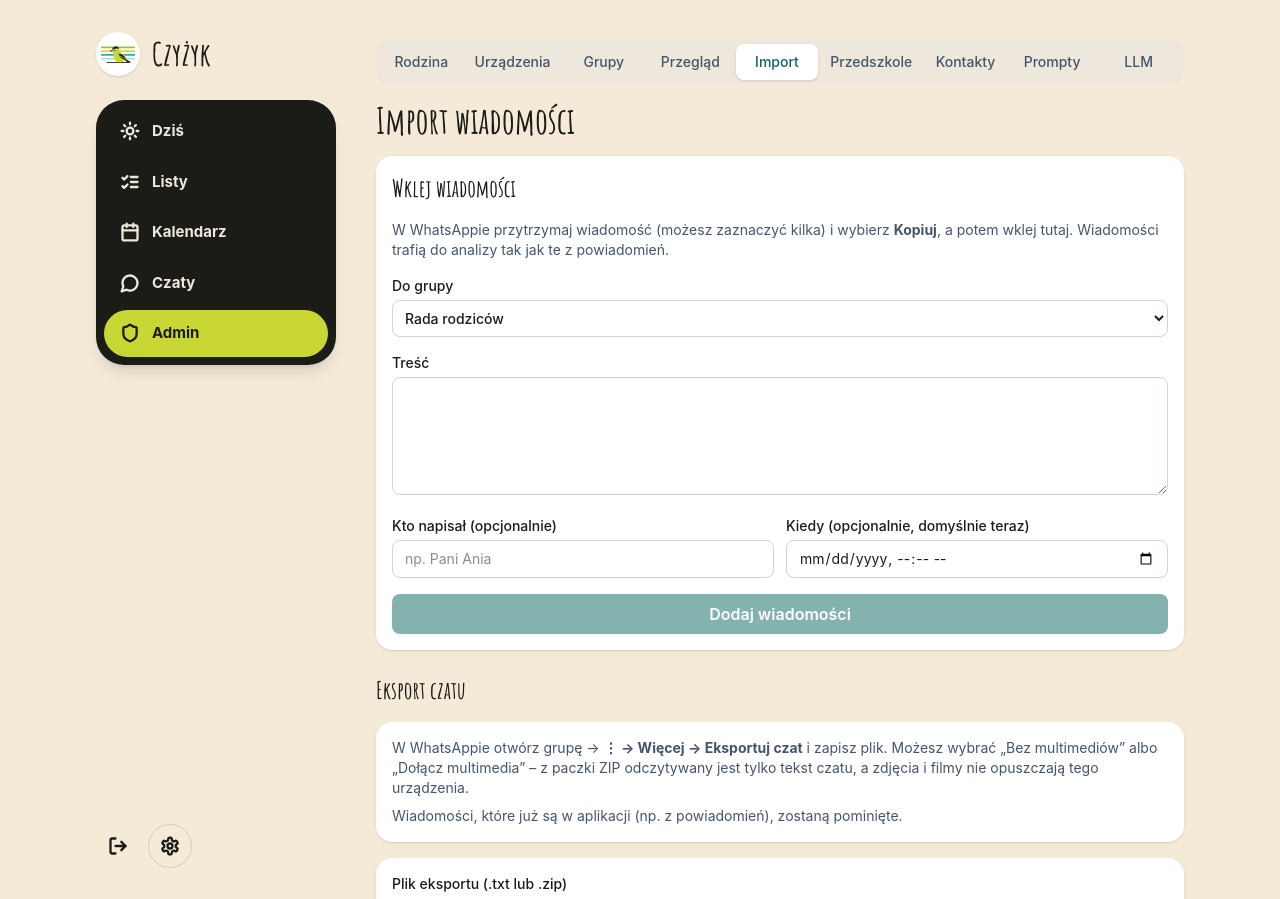
Test: Admin → Import → Wklej wiadomości › pojedyncza wiadomość z autorem i godziną; grupa z adresu
Type "Jutro zbiórka o 8:00" into the text box labelled "Treść" at (780, 436), box [392,377,1168,495]
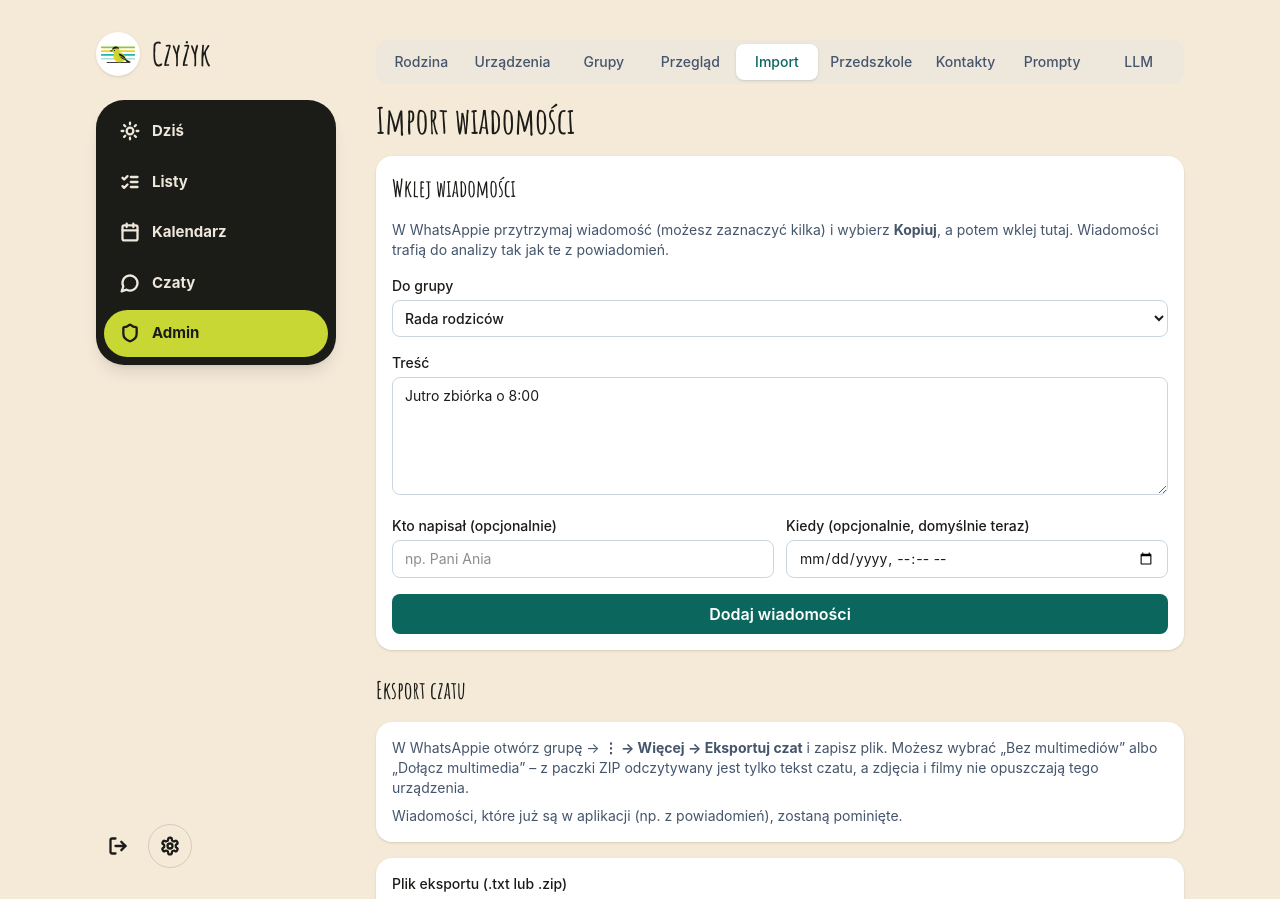
Expected: the dropdown labelled "Do grupy" shows "Rada rodziców", [392,300,1168,337]
Type " Pani Ania " into the field labelled "Kto napisał (opcjonalnie)" at (583, 559), box [392,540,774,578]
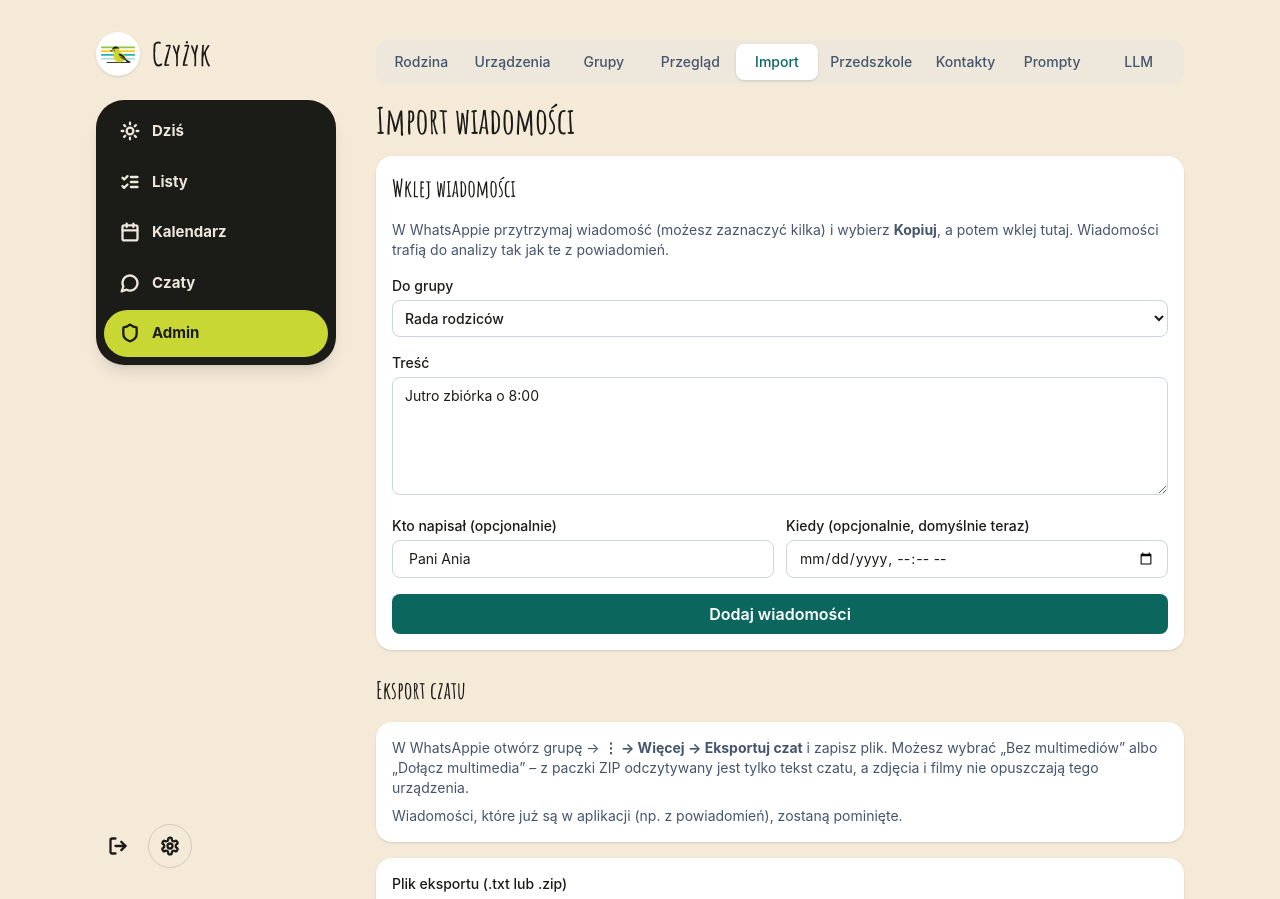
Type "2026-10-20T13:30" into the field labelled "Kiedy (opcjonalnie, domyślnie teraz)" at (977, 559), box [786,540,1168,578]
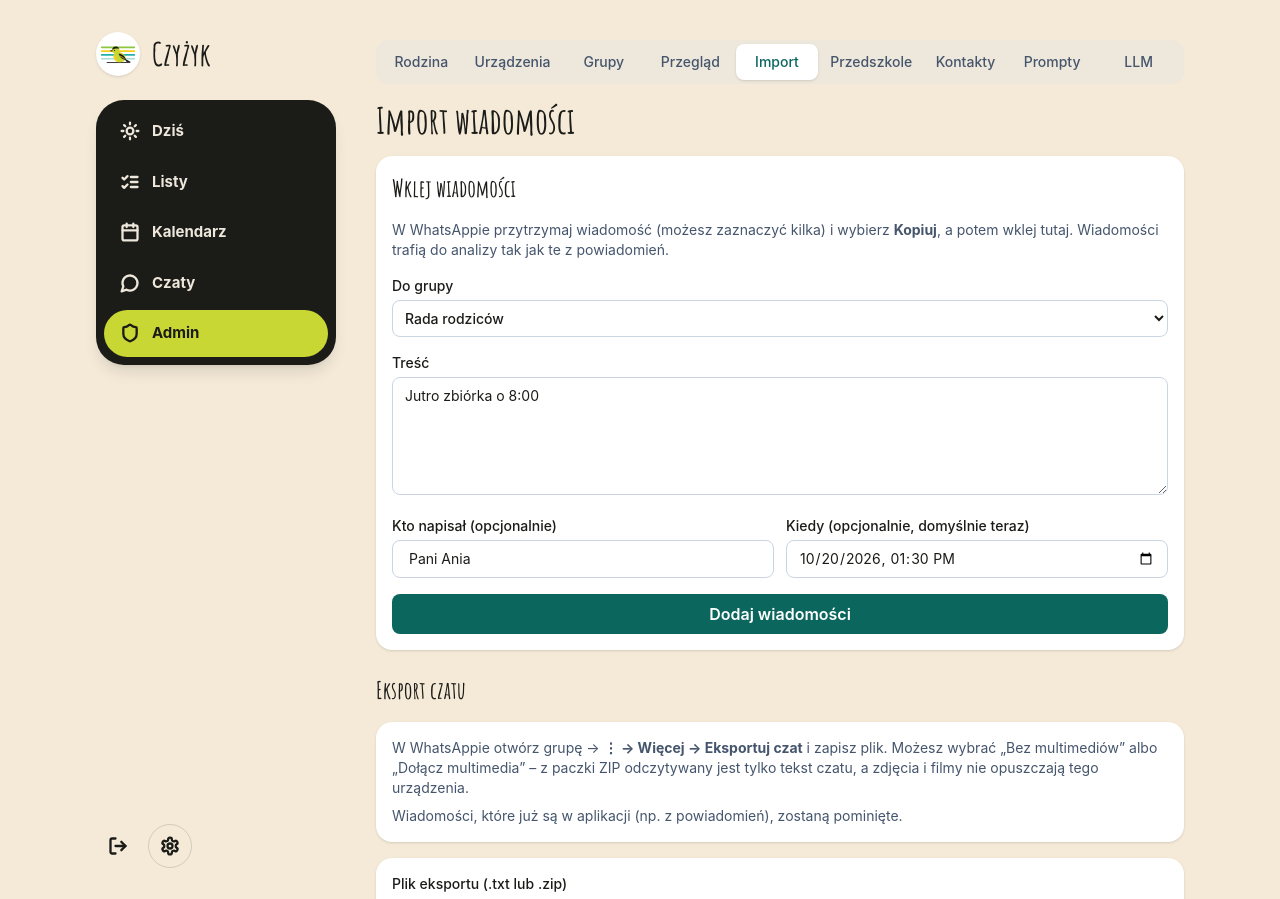
Click the button "Dodaj wiadomości" at (780, 614), box [392,594,1168,634]
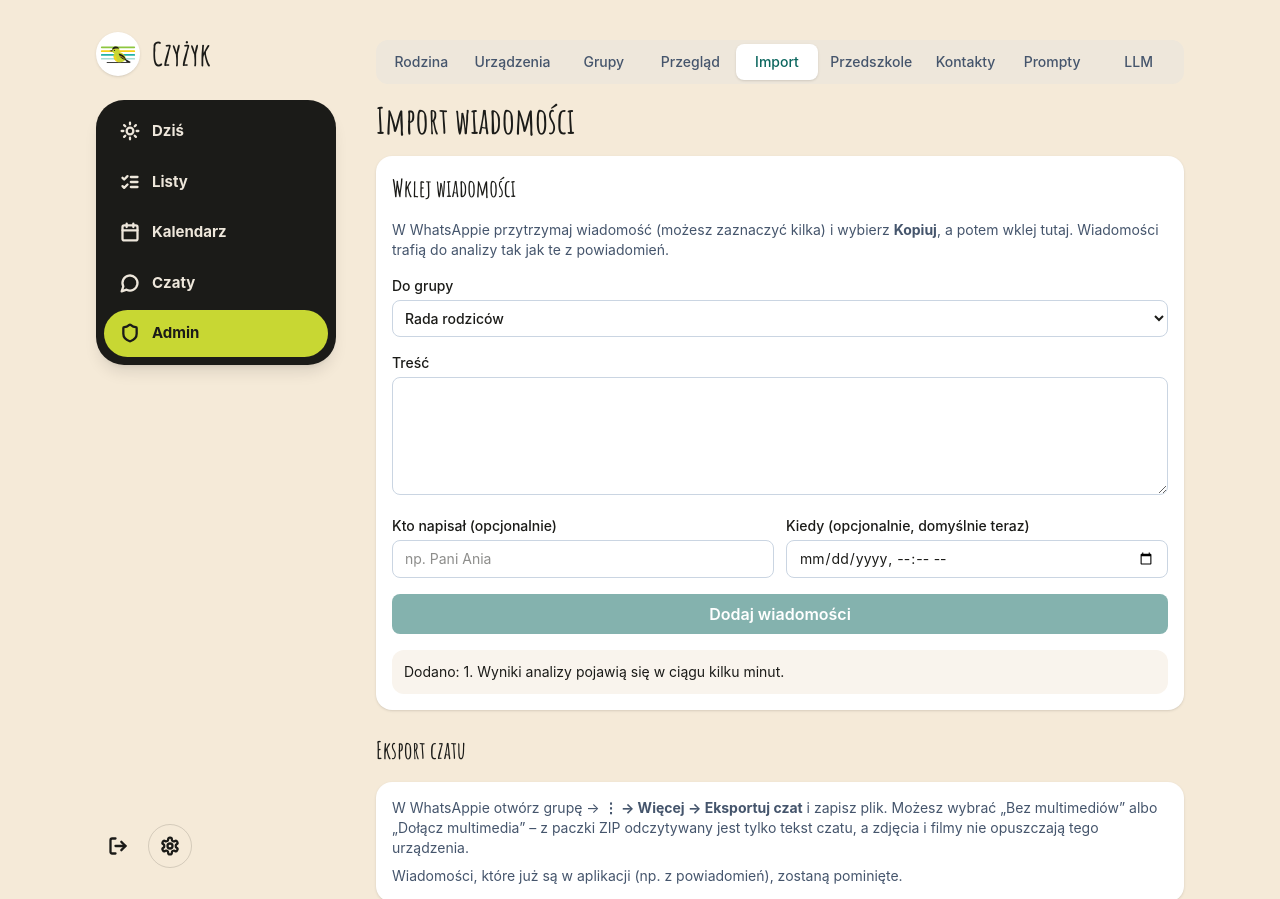
Now the message named "Wynik wklejenia" shows "Dodano: 1.", box [404,663,784,680]
Now the text box labelled "Treść" is empty, box [392,377,1168,495]
